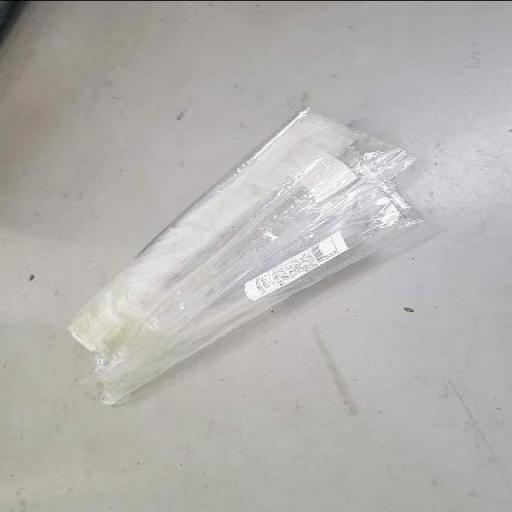plastic-bag: (64, 104, 429, 406)
